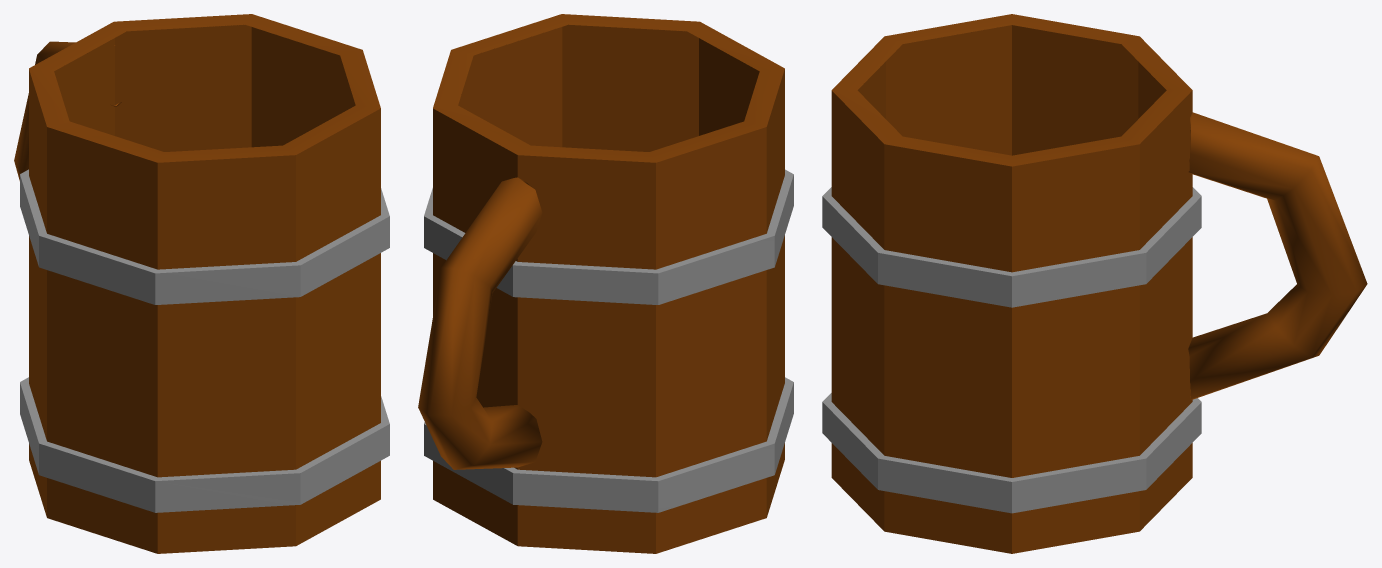
File: I_Mug.fbx
The picture shows the model from 3 angles, left to right: view 1: azimuth 30°, elevation 25°; view 2: azimuth 150°, elevation 25°; view 3: azimuth 270°, elevation 25°; orthographic projection.
Parts seen in each view (by area): view 1: Cylinder.001; view 2: Cylinder.001; view 3: Cylinder.001.
Boxes of the visible parts, x1,y1,x2,y2 form: Cylinder.001: [14, 14, 389, 553]; Cylinder.001: [418, 14, 793, 553]; Cylinder.001: [822, 14, 1367, 553].
Bounding box in the file's own units: 13.4 × 15.1 × 19.25.
